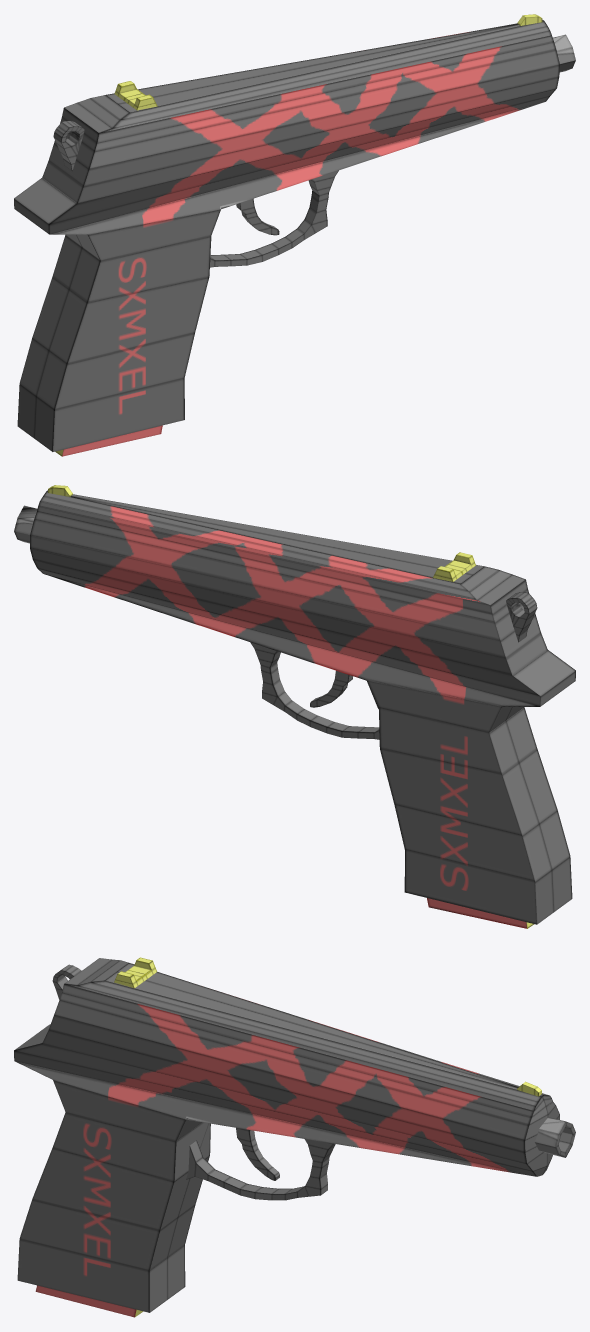
The model's file is PistolModel.fbx.
3 views of the same model, one above another, from view 1: azimuth 30°, elevation 25°; view 2: azimuth 150°, elevation 25°; view 3: azimuth 330°, elevation 25° (orthographic).
Parts seen in each view (by area): view 1: Cube; view 2: Cube; view 3: Cube.
Boxes of the visible parts, bbox=[...] form: Cube: bbox=[14, 14, 575, 456]; Cube: bbox=[14, 485, 575, 928]; Cube: bbox=[14, 957, 575, 1317].
Bounding box in the file's own units: 799 × 483 × 93.36.
1 material, 1 textured.
